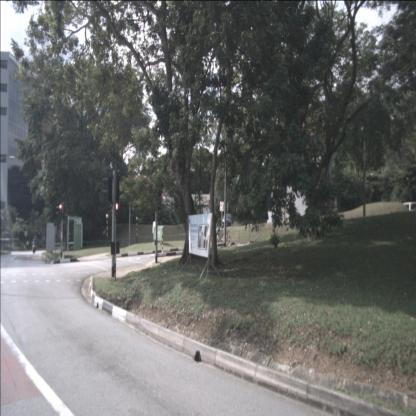vehicle-car: (222, 212, 233, 228)
vehicle-motorcycle: (32, 238, 36, 254)
